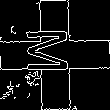M_E: (30, 32, 80, 78)
